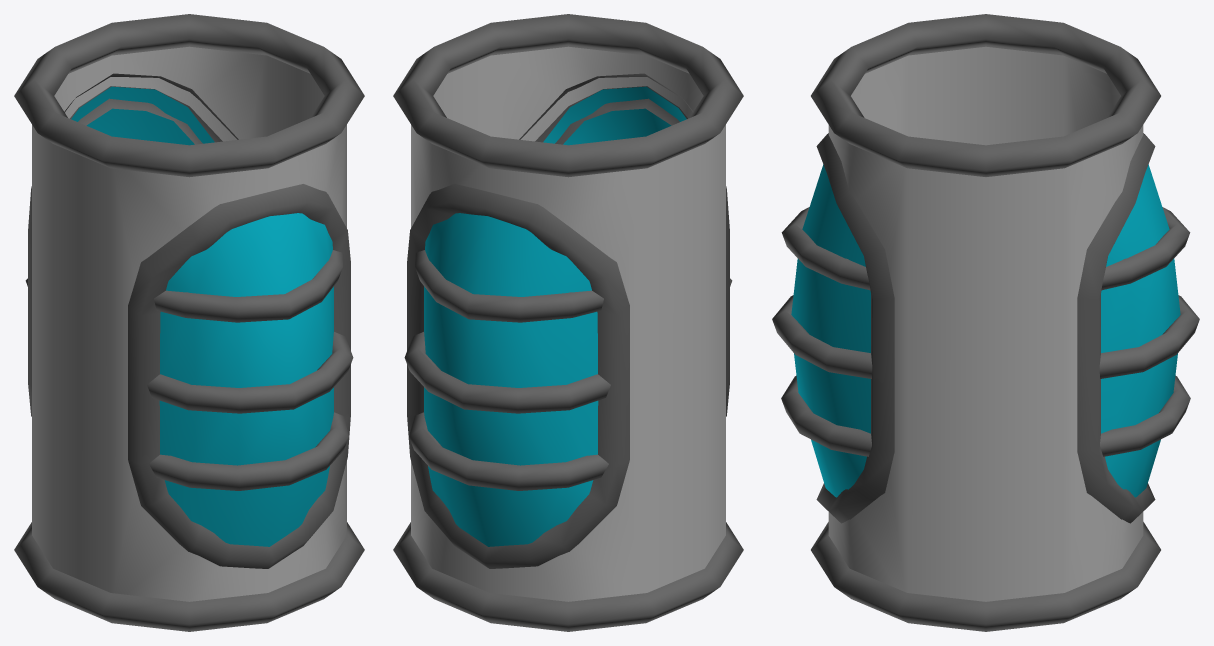
Rendered from pipe_013.fbx.
The picture shows the model from 3 angles, left to right: view 1: azimuth 30°, elevation 25°; view 2: azimuth 150°, elevation 25°; view 3: azimuth 270°, elevation 25°; orthographic projection.
Visible parts, largest first — view 1: pipe_013; view 2: pipe_013; view 3: pipe_013.
Boxes of the visible parts, x1=… form: pipe_013: x1=14, y1=14, x2=364, y2=631; pipe_013: x1=393, y1=14, x2=743, y2=631; pipe_013: x1=772, y1=14, x2=1199, y2=631.
Bounding box in the file's own units: 214 × 261 × 327.
